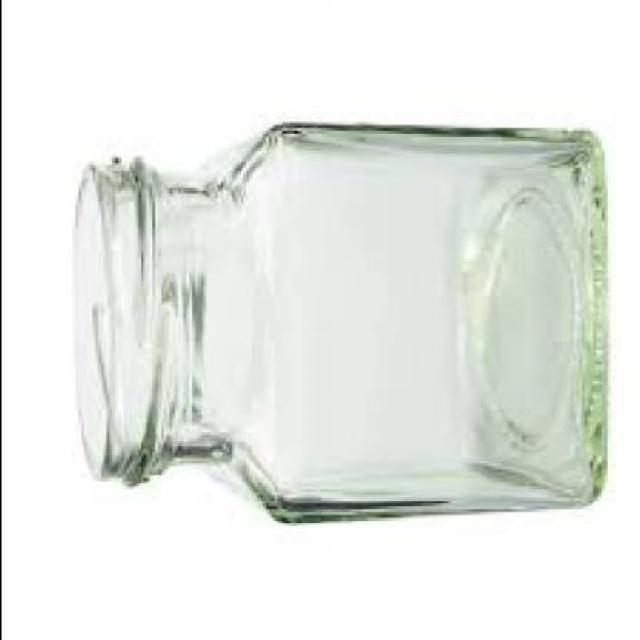GLASS: (71, 120, 603, 520)
